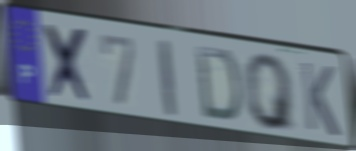7: (96, 30, 137, 110)
D: (193, 43, 243, 126)
I: (155, 36, 179, 120)
K: (299, 58, 342, 140)
Q: (243, 52, 298, 134)
X: (41, 21, 95, 108)
